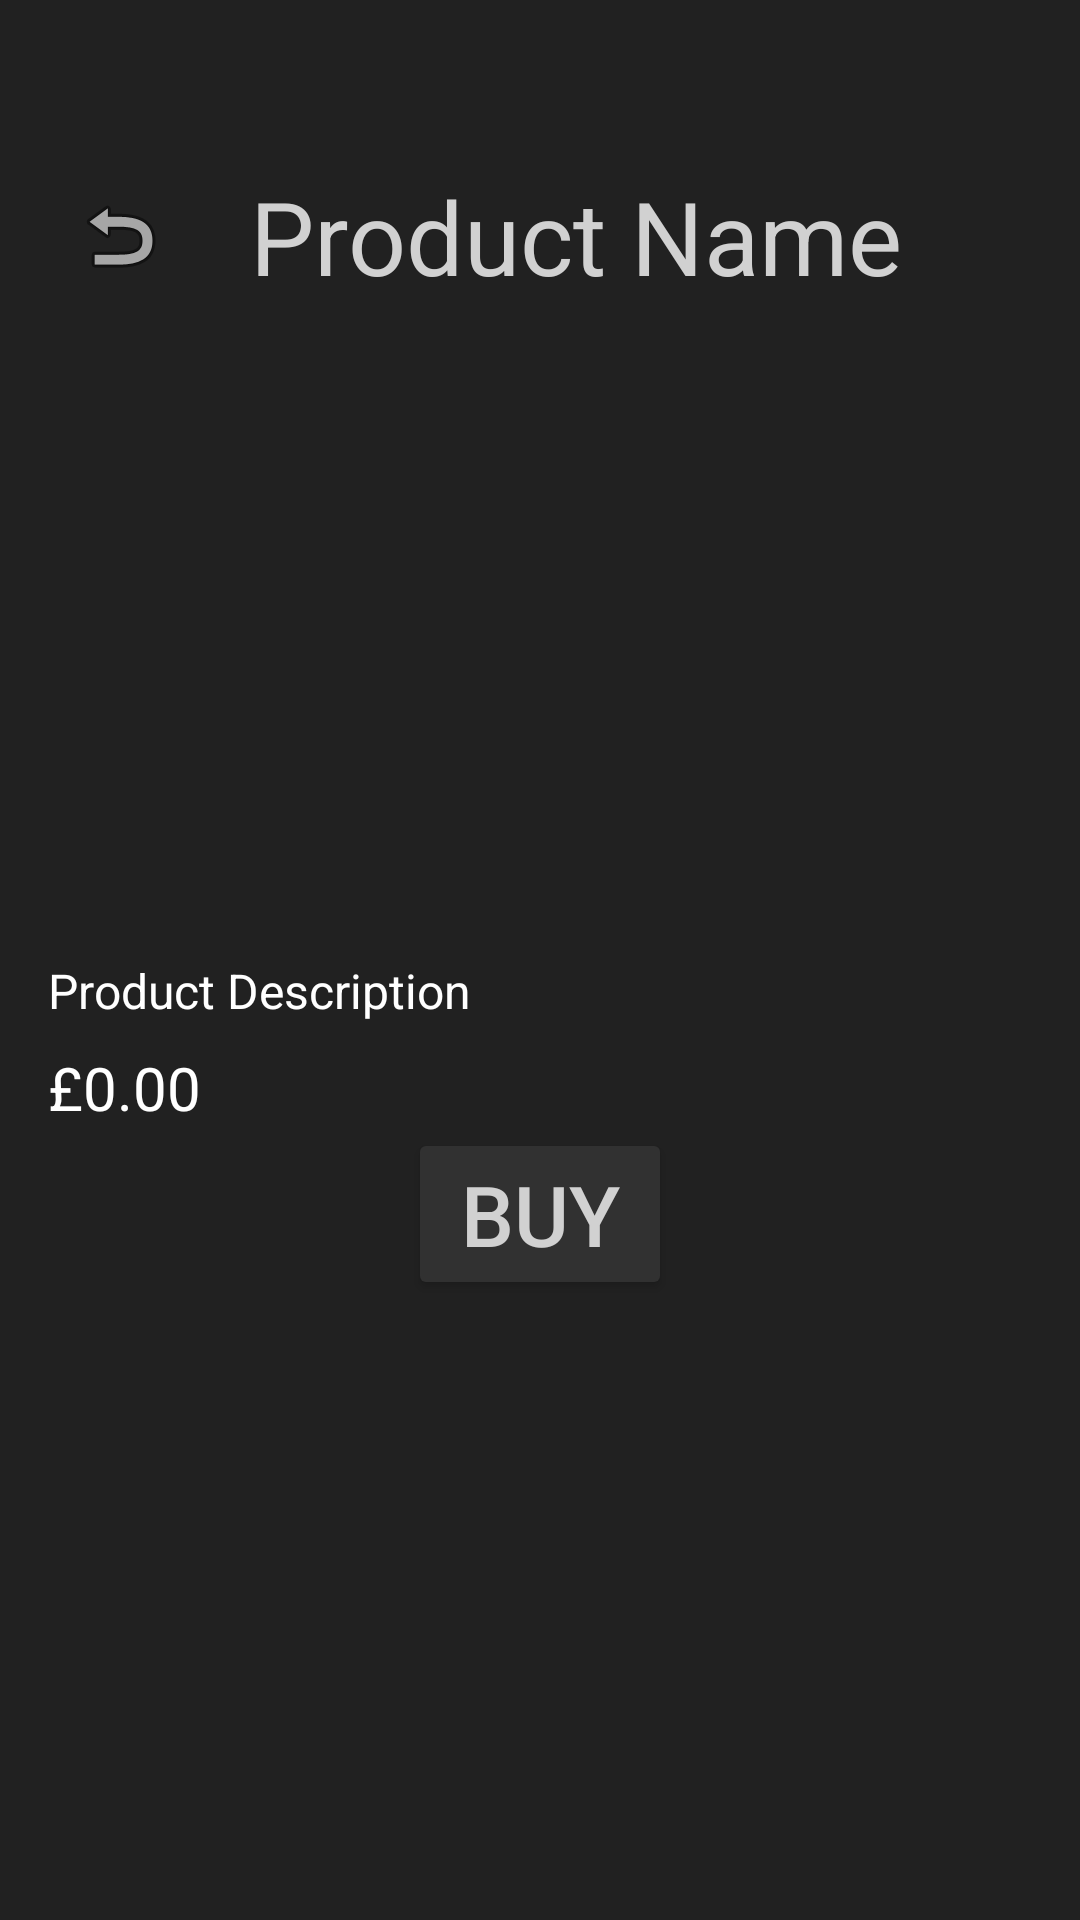

Named icons in this screenshot (1080x1920) and their centers, (x,y):
revert: (121,236)
